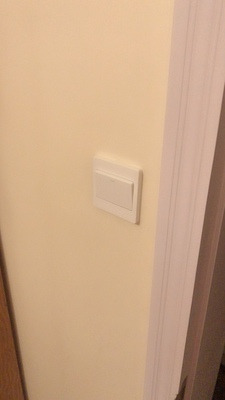switch: (91, 164, 139, 216)
